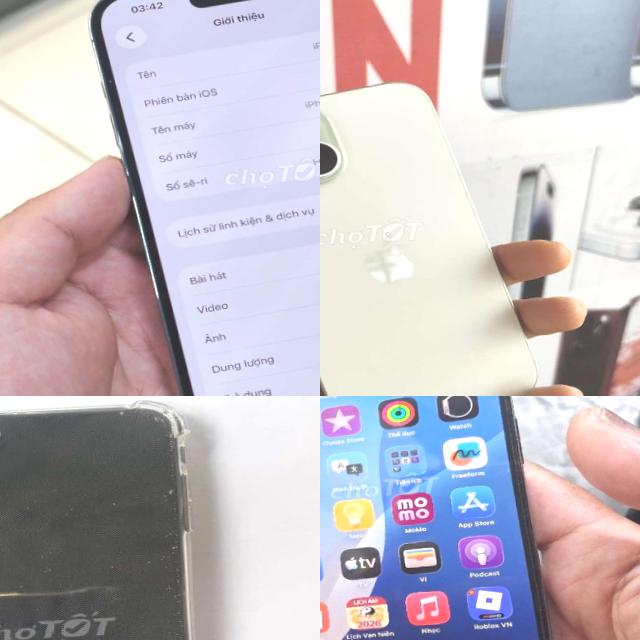gen_12_13: (320, 396, 571, 640)
gen_14: (79, 0, 320, 396)
gen_15: (320, 71, 568, 396)
gen_7_8: (0, 396, 222, 640)
